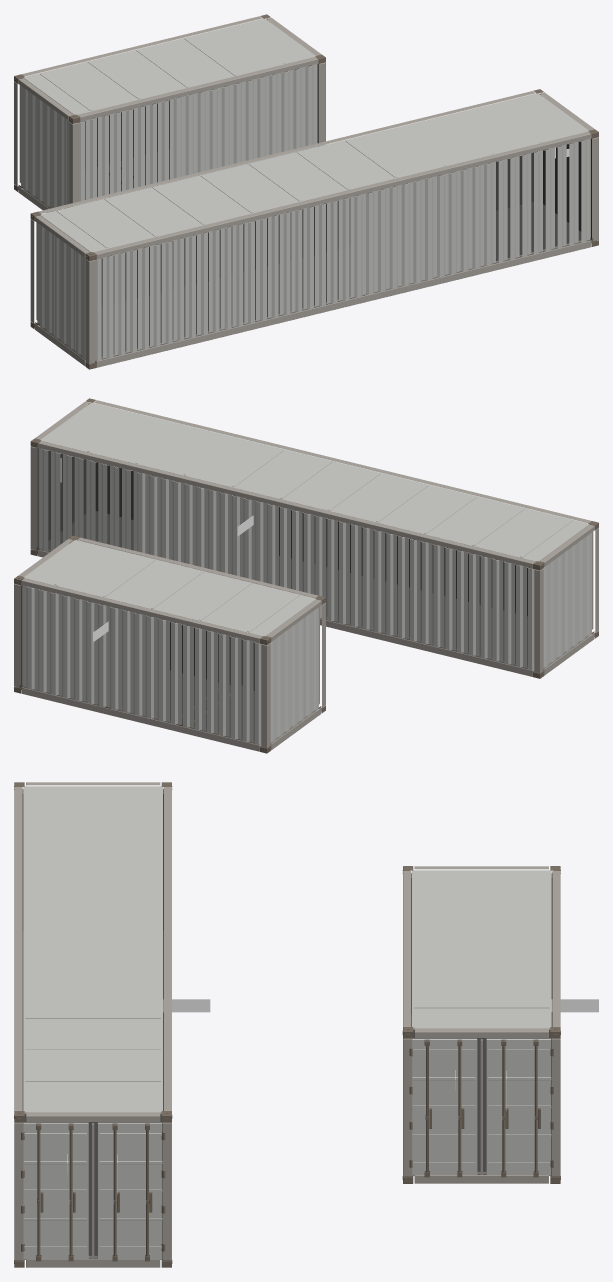
The model's file is containers.glb.
The picture shows the model from 3 angles, top to bottom: view 1: azimuth 30°, elevation 25°; view 2: azimuth 150°, elevation 25°; view 3: azimuth 270°, elevation 25°; orthographic projection. The views are drawn at different scales.
Parts seen in each view (by area): view 1: cont40, cont20; view 2: cont40, cont20; view 3: cont40, cont20, mark20_0.
Boxes of the visible parts, <box> form: cont40: <box>30,89,598,369</box>; cont20: <box>14,14,325,212</box>; cont40: <box>30,398,598,678</box>; cont20: <box>14,535,325,753</box>; cont40: <box>14,782,172,1267</box>; cont20: <box>402,866,560,1183</box>; mark20_0: <box>455,999,598,1110</box>.
Bounding box in the file's own units: 12.56 × 2.6 × 9.03.
